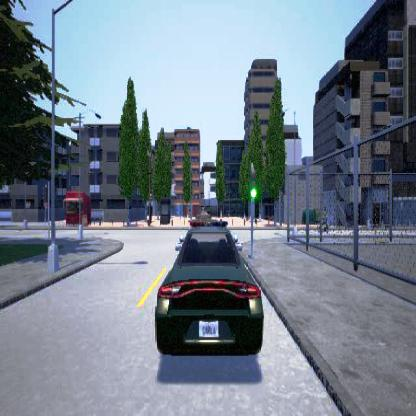vehicle: (154, 220, 263, 355)
